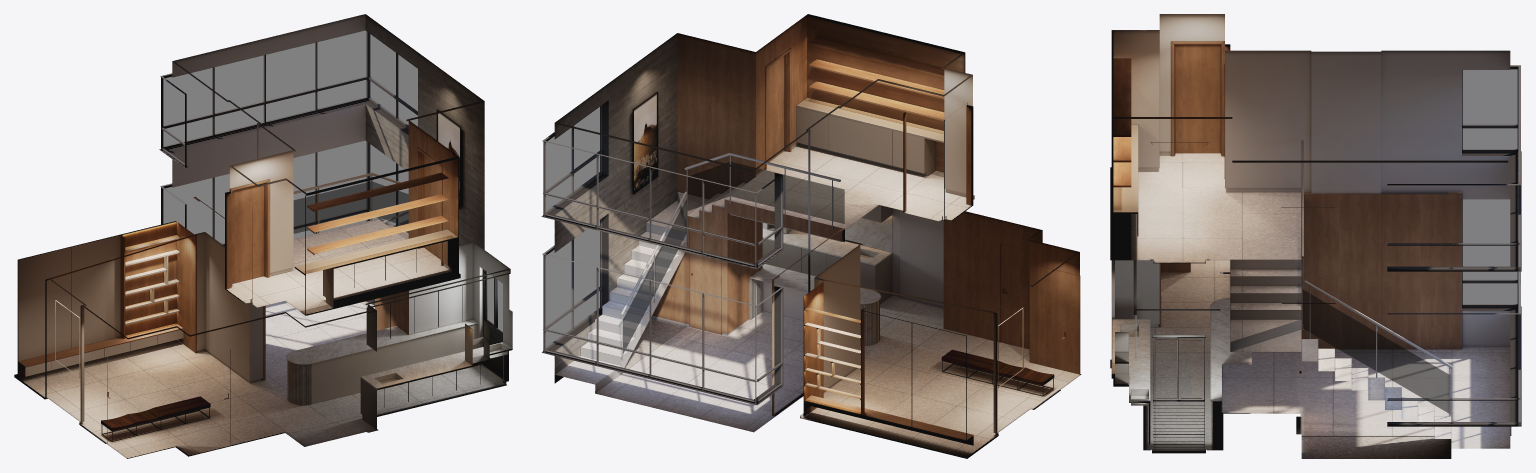
File: Duplex.glb
3 views of the same model, side by side, from view 1: azimuth 30°, elevation 25°; view 2: azimuth 150°, elevation 25°; view 3: azimuth 270°, elevation 25° (orthographic). The views are drawn at different scales.
Visible parts, largest first — view 1: Box029, Box034, Box037; view 2: Box029, Box034, Box037; view 3: Box029, Box034, Box037.
Part boxes in pixels (x1=…): Box029: x1=14, y1=14, x2=512, y2=458; Box034: x1=163, y1=30, x2=502, y2=332; Box037: x1=293, y1=181, x2=408, y2=233; Box029: x1=541, y1=14, x2=1081, y2=458; Box034: x1=543, y1=107, x2=600, y2=351; Box037: x1=623, y1=162, x2=844, y2=353; Box029: x1=1110, y1=14, x2=1521, y2=458; Box034: x1=1462, y1=69, x2=1517, y2=303; Box037: x1=1303, y1=290, x2=1449, y2=412.
Bounding box in the file's own units: 8.77 × 5.53 × 6.92.
3 materials, 1 textured.
